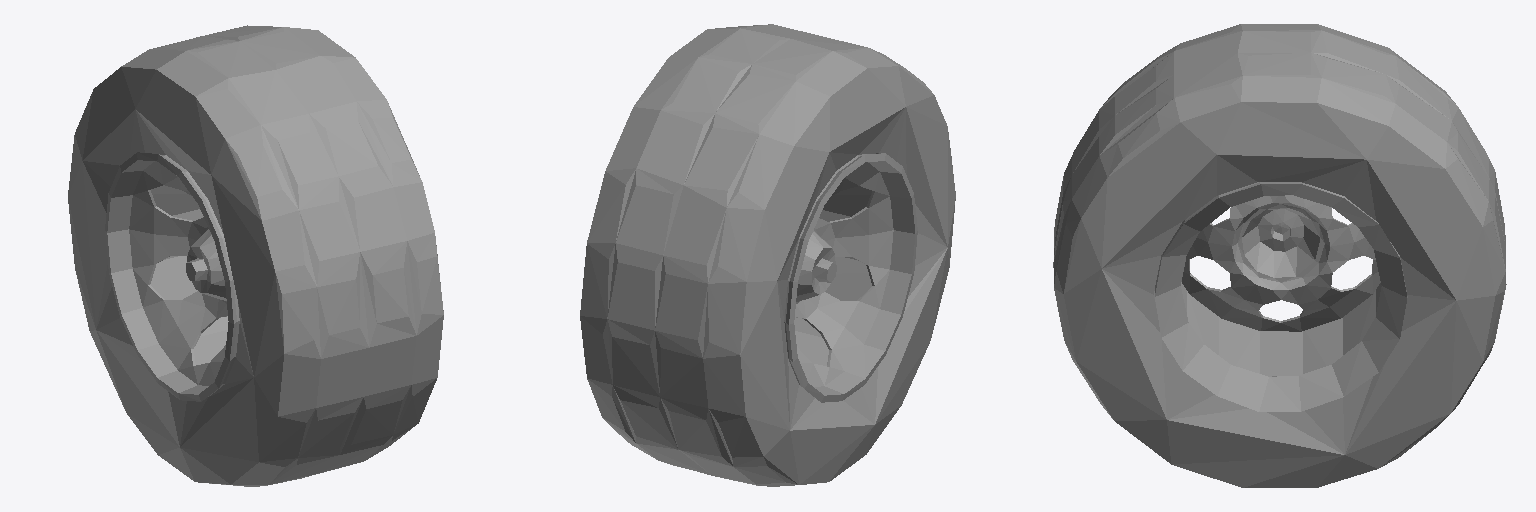
Rendered from Wheel.obj.
The picture shows the model from 3 angles: view 1: azimuth 30°, elevation 25°; view 2: azimuth 150°, elevation 25°; view 3: azimuth 270°, elevation 25°; orthographic projection.
Parts seen in each view (by area): view 1: Tire_Окружность.001, MainWheel_Circle; view 2: Tire_Окружность.001, MainWheel_Circle; view 3: Tire_Окружность.001, MainWheel_Circle.
Boxes of the visible parts, x1=… form: Tire_Окружность.001: x1=68, y1=25, x2=443, y2=486; MainWheel_Circle: x1=105, y1=152, x2=239, y2=401; Tire_Окружность.001: x1=580, y1=24, x2=955, y2=486; MainWheel_Circle: x1=784, y1=153, x2=917, y2=402; Tire_Окружность.001: x1=1053, y1=24, x2=1506, y2=487; MainWheel_Circle: x1=1155, y1=182, x2=1407, y2=411.
Size of the model in its own units: 1.72 by 3.65 by 3.68.